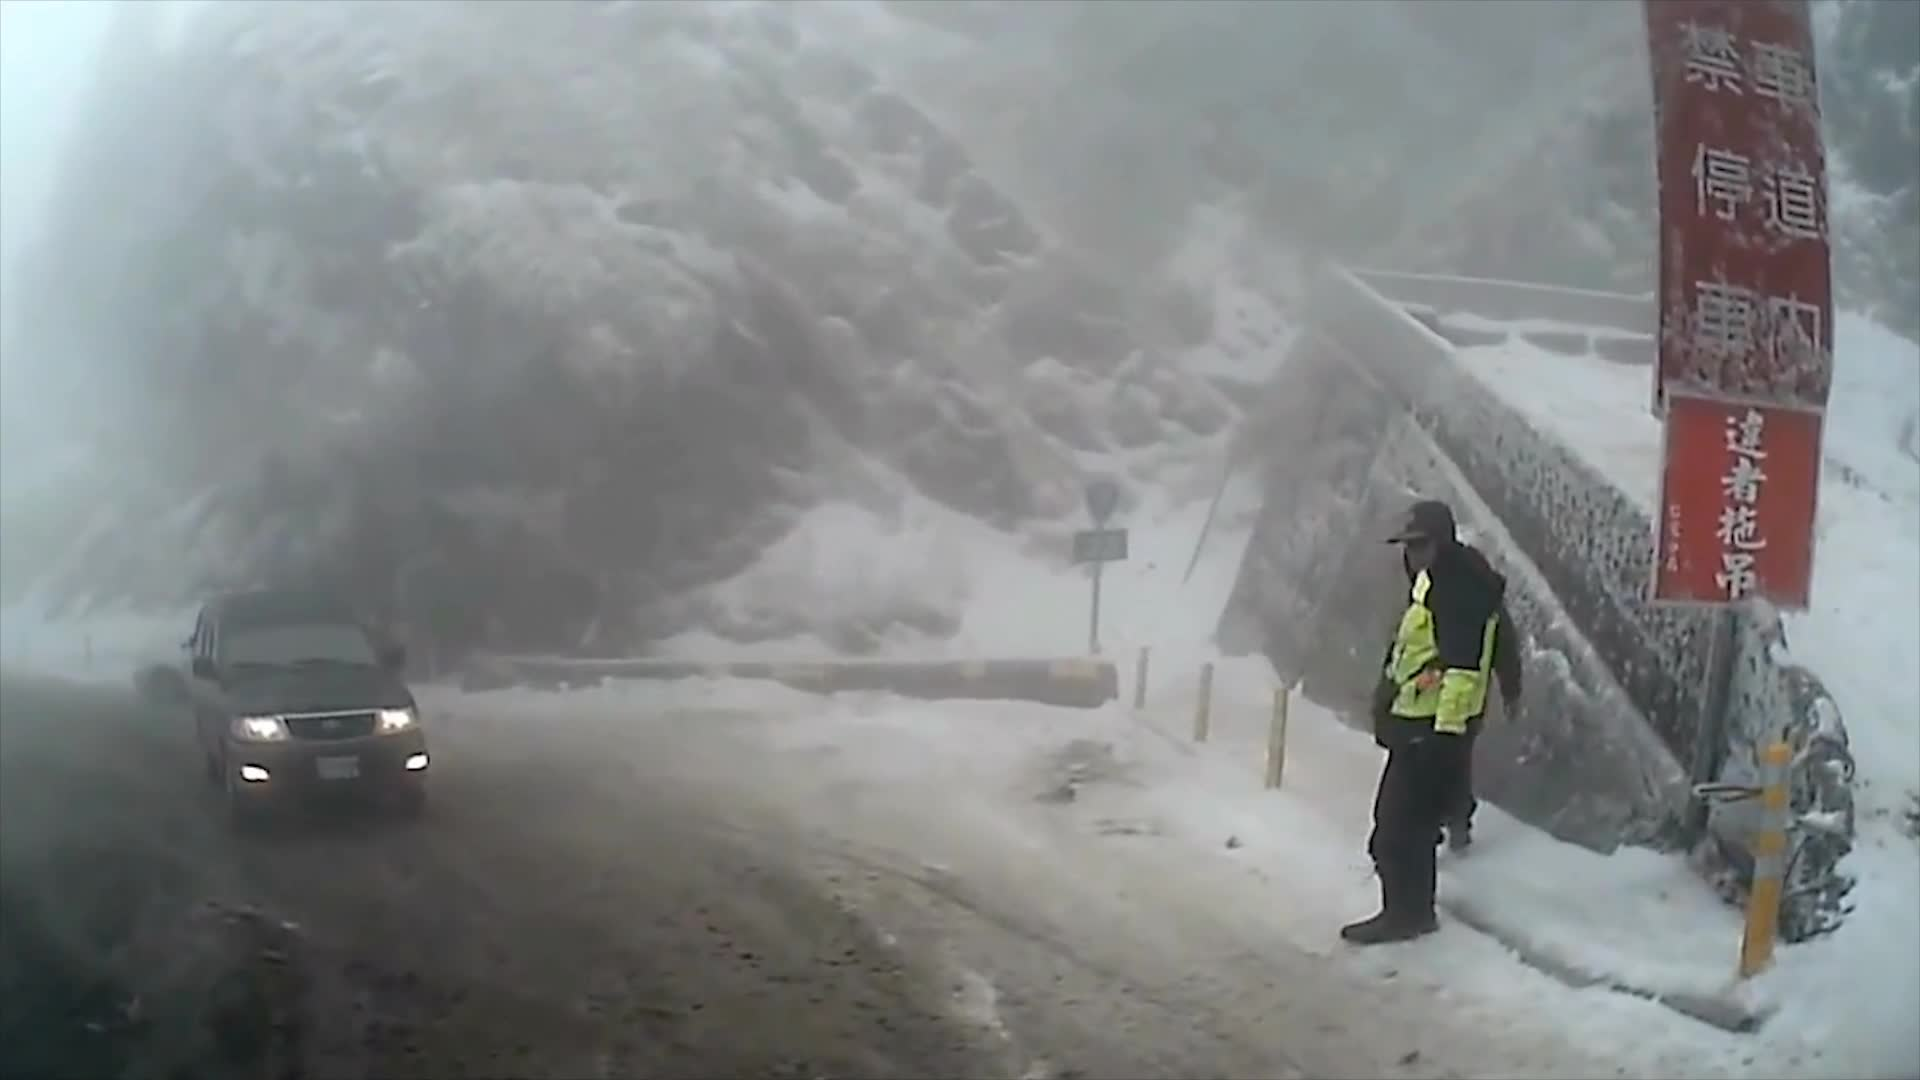pedestrian: (1356, 499, 1526, 952)
vehicle: (185, 587, 430, 829)
